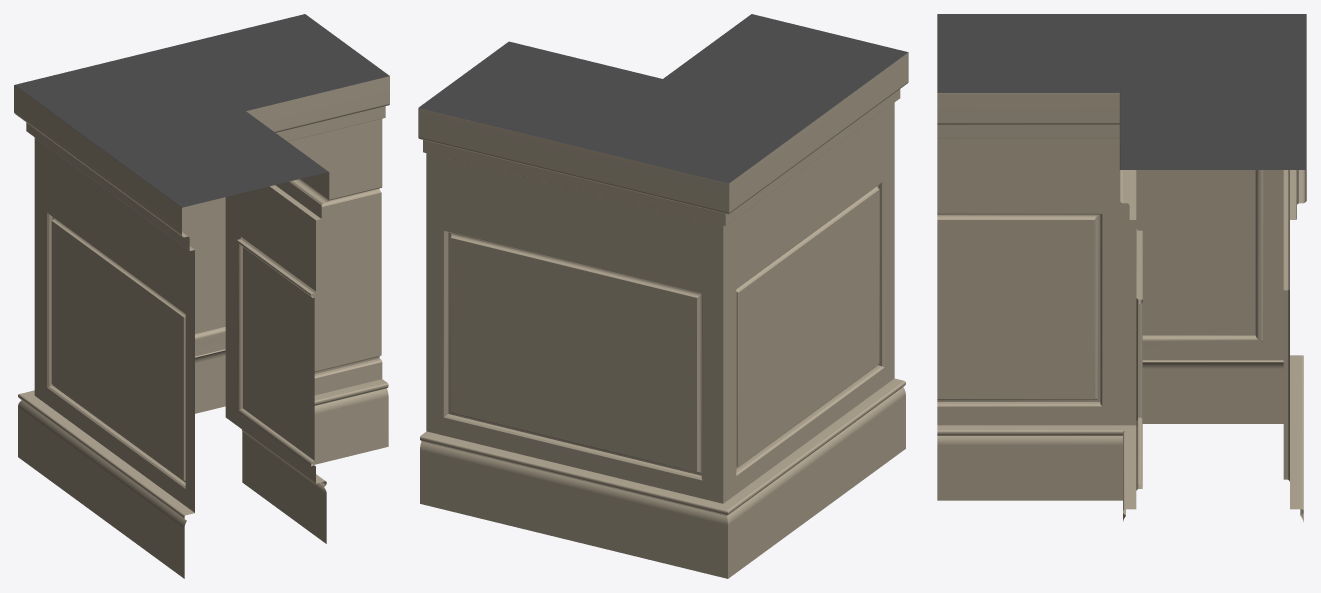
The model's file is Wallset_02.1.10.fbx.
3 renders of one model, left to right at view 1: azimuth 30°, elevation 25°; view 2: azimuth 150°, elevation 25°; view 3: azimuth 270°, elevation 25°, orthographic. The views are drawn at different scales.
Visible parts, largest first — view 1: polySurface25; view 2: polySurface25; view 3: polySurface25.
Part boxes in pixels (x1,y1,x2,y2): polySurface25: (14, 14, 389, 578); polySurface25: (418, 14, 908, 578); polySurface25: (937, 14, 1306, 521).
Bounding box in the file's own units: 199 × 243 × 199.
